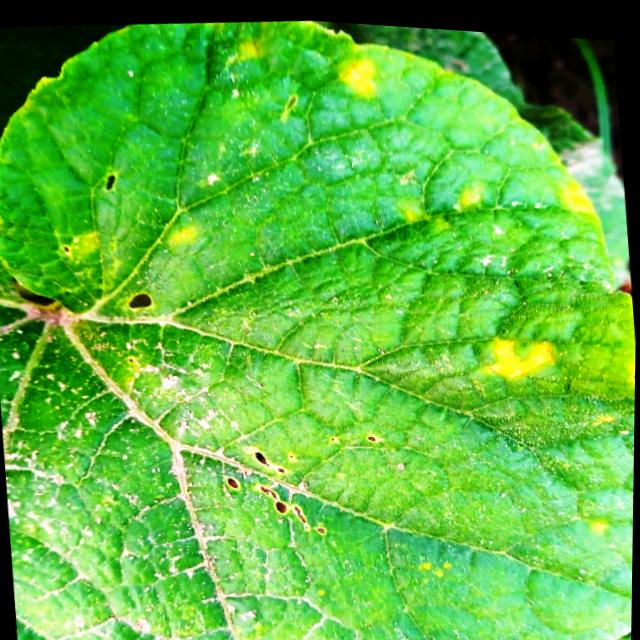Downy-Mildew: (0, 16, 636, 640)
